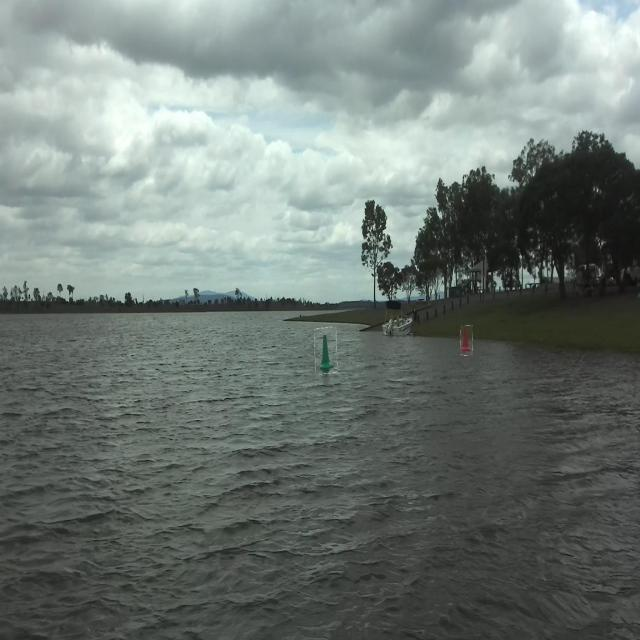Green_Buoy: (316, 324, 338, 376)
Red_Buoy: (460, 324, 473, 359)
